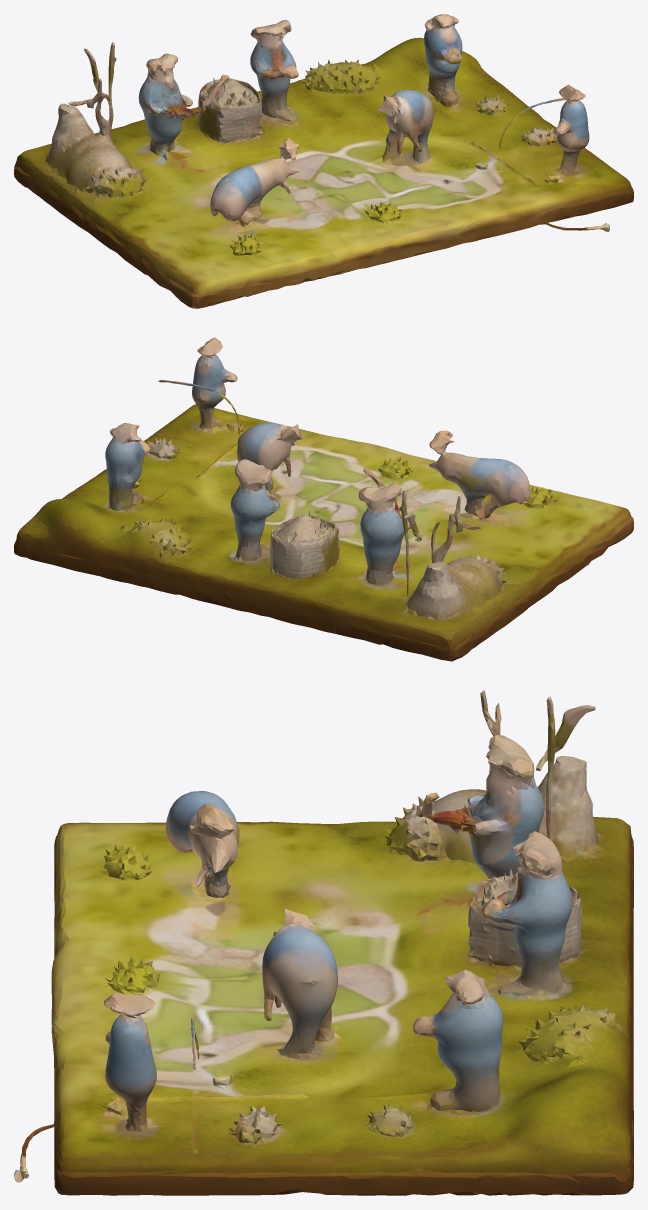
3 views of the same model, one above another, from view 1: azimuth 30°, elevation 25°; view 2: azimuth 150°, elevation 25°; view 3: azimuth 270°, elevation 25° (orthographic). The views are drawn at different scales.
Visible parts, largest first — view 1: MapAdvantage; view 2: MapAdvantage; view 3: MapAdvantage.
Part boxes in pixels (x1,y1,x2,y2): MapAdvantage: [14, 14, 633, 308]; MapAdvantage: [14, 337, 633, 661]; MapAdvantage: [14, 690, 633, 1195].
Bounding box in the file's own units: 1.9 × 0.6004 × 1.45.
Materials: 1 (1 with a texture image).
